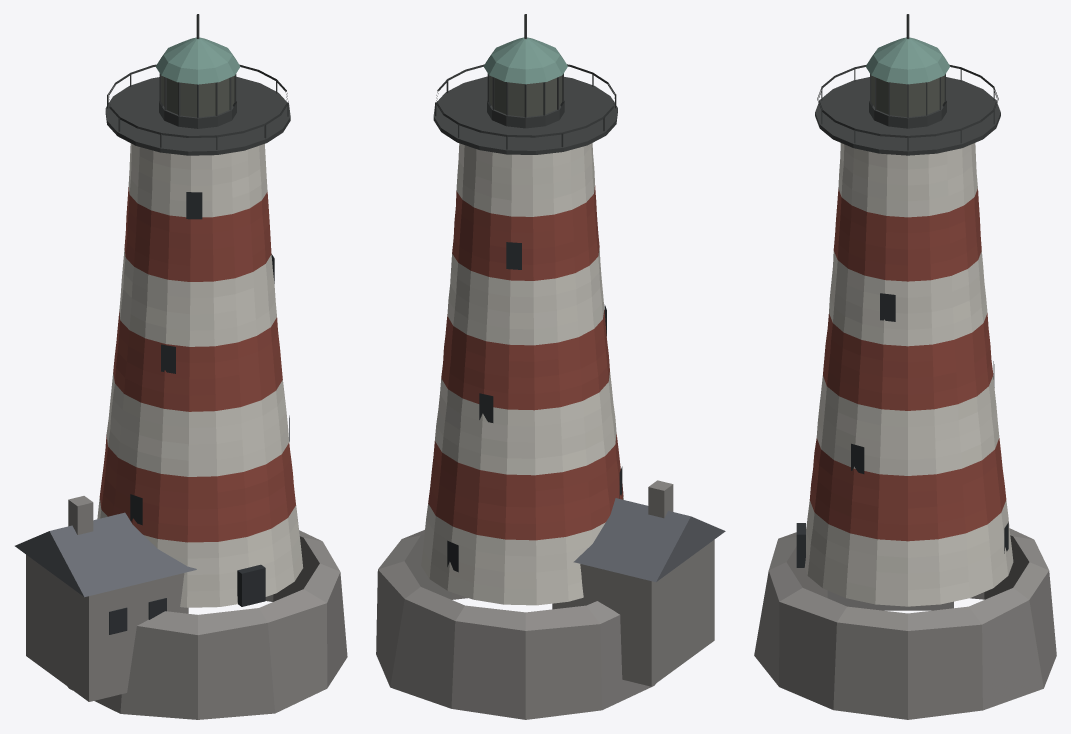
The model's file is lighthouse.glb.
3 renders of one model, left to right at view 1: azimuth 30°, elevation 25°; view 2: azimuth 150°, elevation 25°; view 3: azimuth 270°, elevation 25°, orthographic.
Parts seen in each view (by area): view 1: tower, keeper; view 2: tower, keeper; view 3: tower, keeper.
Part boxes in pixels (bbox=[...]): tower: bbox=[67, 14, 347, 719]; keeper: bbox=[15, 496, 196, 701]; tower: bbox=[376, 14, 655, 719]; keeper: bbox=[552, 480, 725, 686]; tower: bbox=[754, 14, 1056, 719]; keeper: bbox=[827, 590, 953, 610].
Size of the model in its own units: 29.09 by 61.7 by 26.41.
